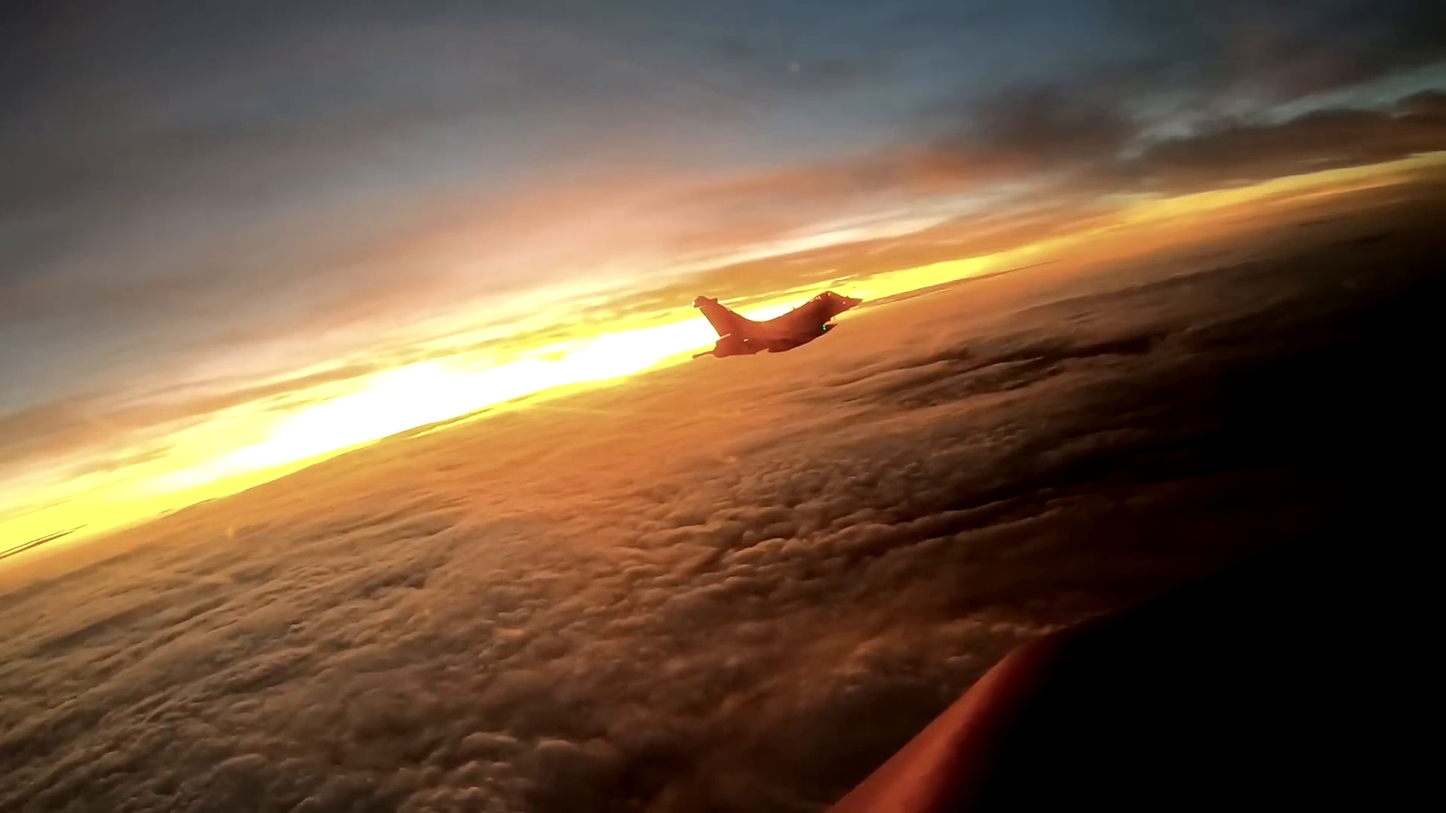Rafale: (687, 289, 865, 363)
